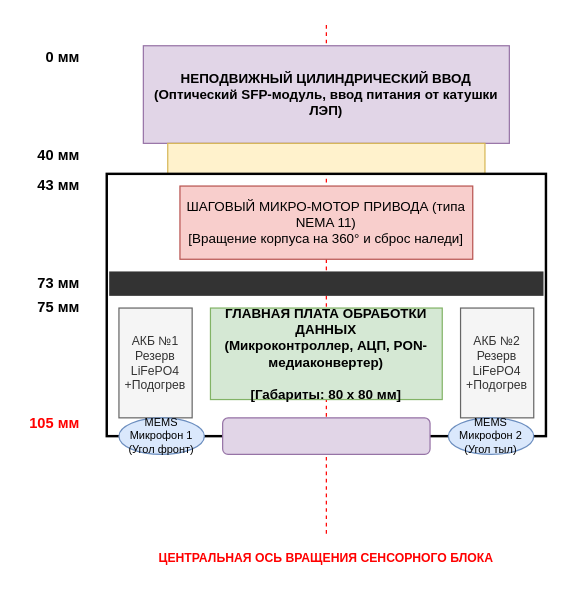
Some shapes in this 567 by 592 pixel diagram are drawn without their labels. The shapes that lost their labels are listed below. From the top down, each one's centre as x and y in pixels, then its label:
At pixel 326 158: "УПОРНЫЙ ПОДШИПНИК И СКОЛЬЗЯЩИЙ КОНТАКТ (SLIP RING)".
At pixel 326 283: "ВНУТРЕННЯЯ ЗВУКО-ВИБРОИЗОЛЯЦИОННАЯ ПЕРЕГОРОДКА (2 мм)".
At pixel 325 435: "МЕТЕОЧИП (Давление / Температура / Влажность) + Мембрана Gore-Tex".
